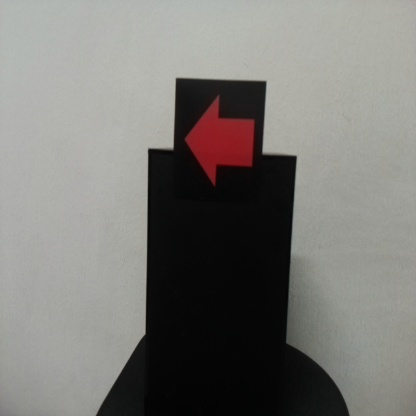id_4: (176, 79, 264, 207)
